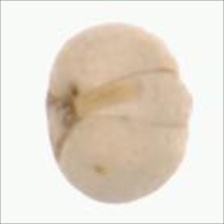L5: (84, 66, 195, 130), (44, 77, 85, 166)
L6: (43, 22, 196, 205)
